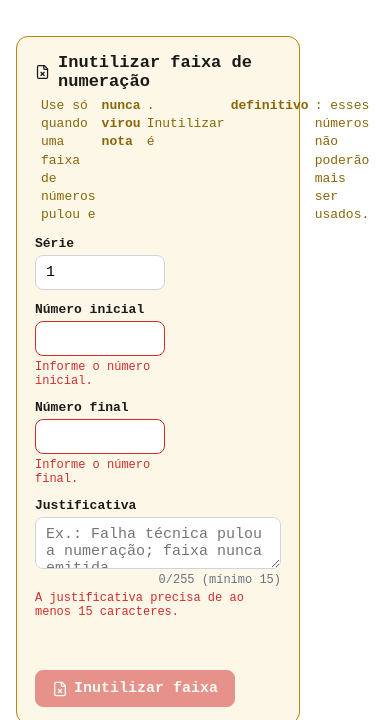
Scenario: <InutilizarNumeracao> (Leva 11) › rejeição da SEFAZ mostra o motivo (sem botão morto)
In the field labelled "Número inicial": [100, 339] box [35, 321, 165, 356], type "45"
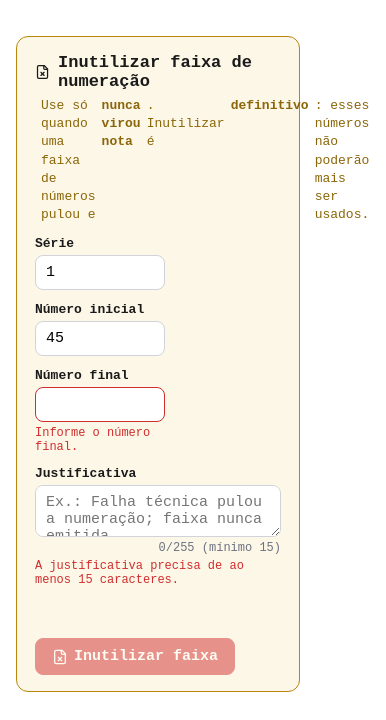
In the field labelled "Número final": [100, 405] box [35, 387, 165, 422], type "48"
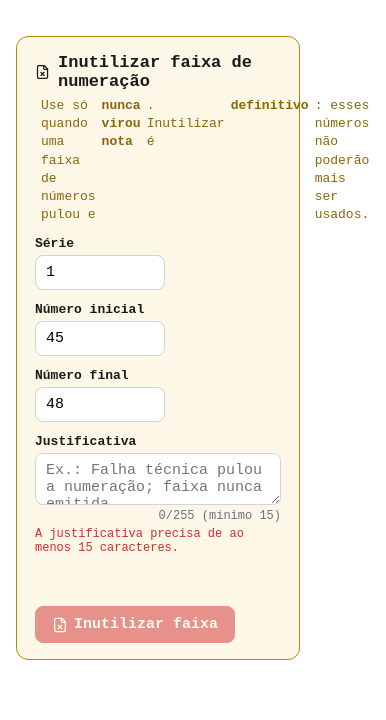
In the text box labelled "Justificativa": [158, 479] box [35, 453, 281, 505], type "Falha técnica pulou a numeração; faixa nunca emitida."
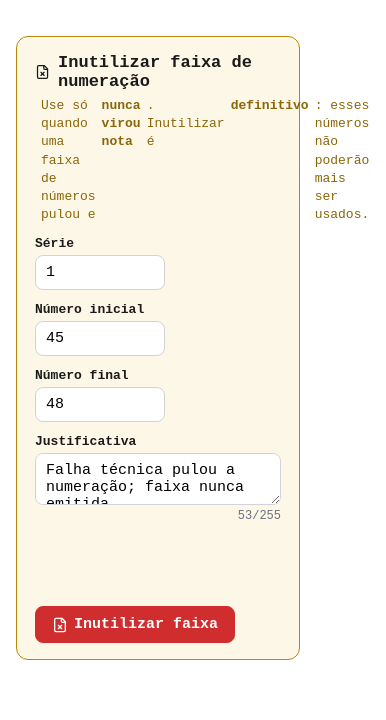
Click the button "Inutilizar faixa": [135, 625] box [35, 606, 235, 643]
(page scrolled)
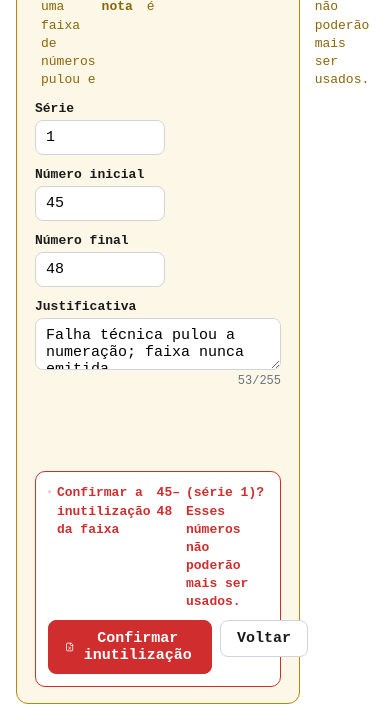
Click the button "Confirmar inutilização": [130, 647] box [48, 620, 212, 674]
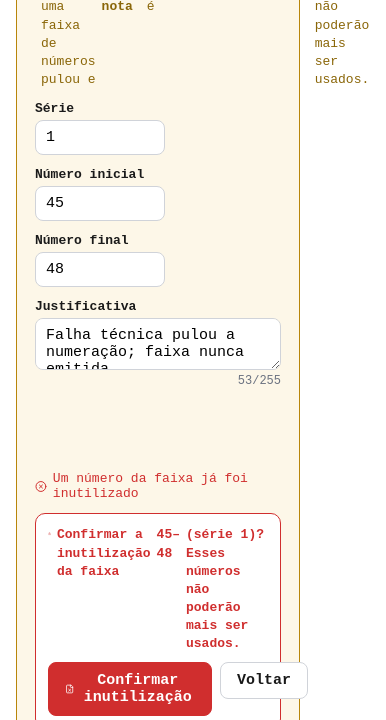
Check: the text "Um número da faixa já foi inutilizado" is shown, box [35, 471, 281, 501]
